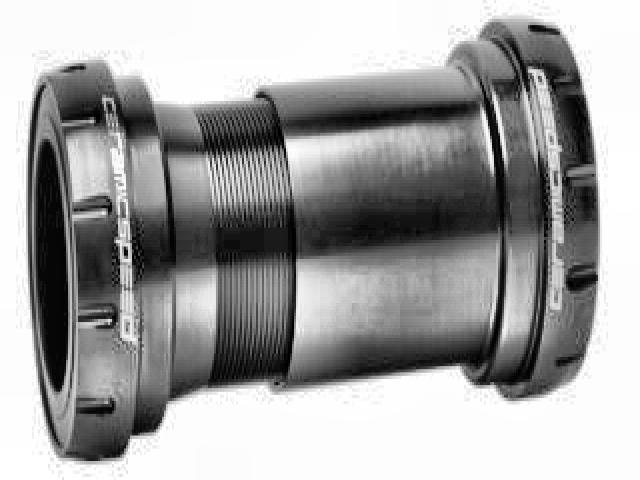bottom_bracket: (25, 13, 602, 466)
